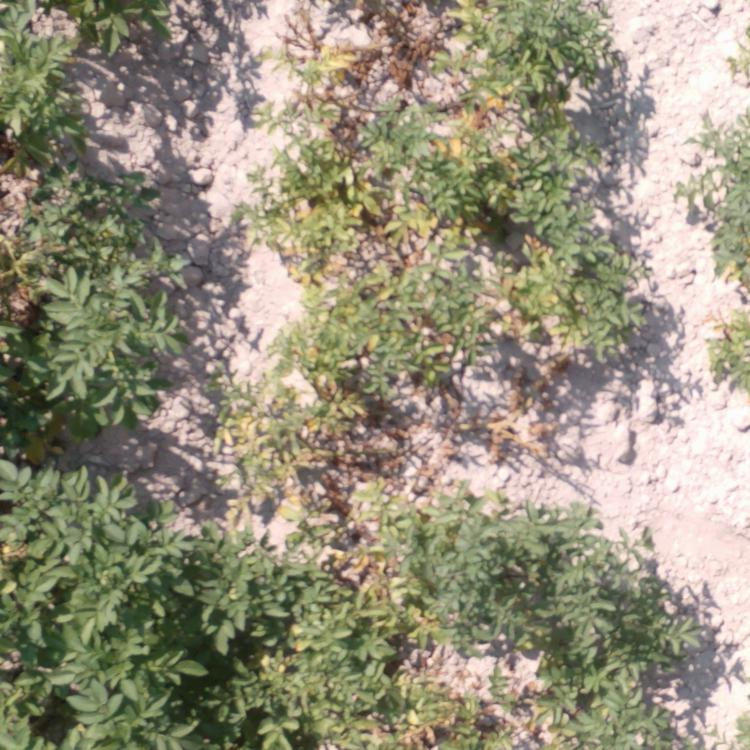healthy: (3, 466, 215, 741), (464, 504, 686, 742), (2, 173, 139, 427), (2, 1, 155, 141), (674, 113, 750, 388)
stressed: (282, 110, 608, 289), (236, 528, 454, 740), (236, 308, 406, 500), (412, 3, 565, 108), (435, 297, 620, 379), (285, 4, 395, 106)
